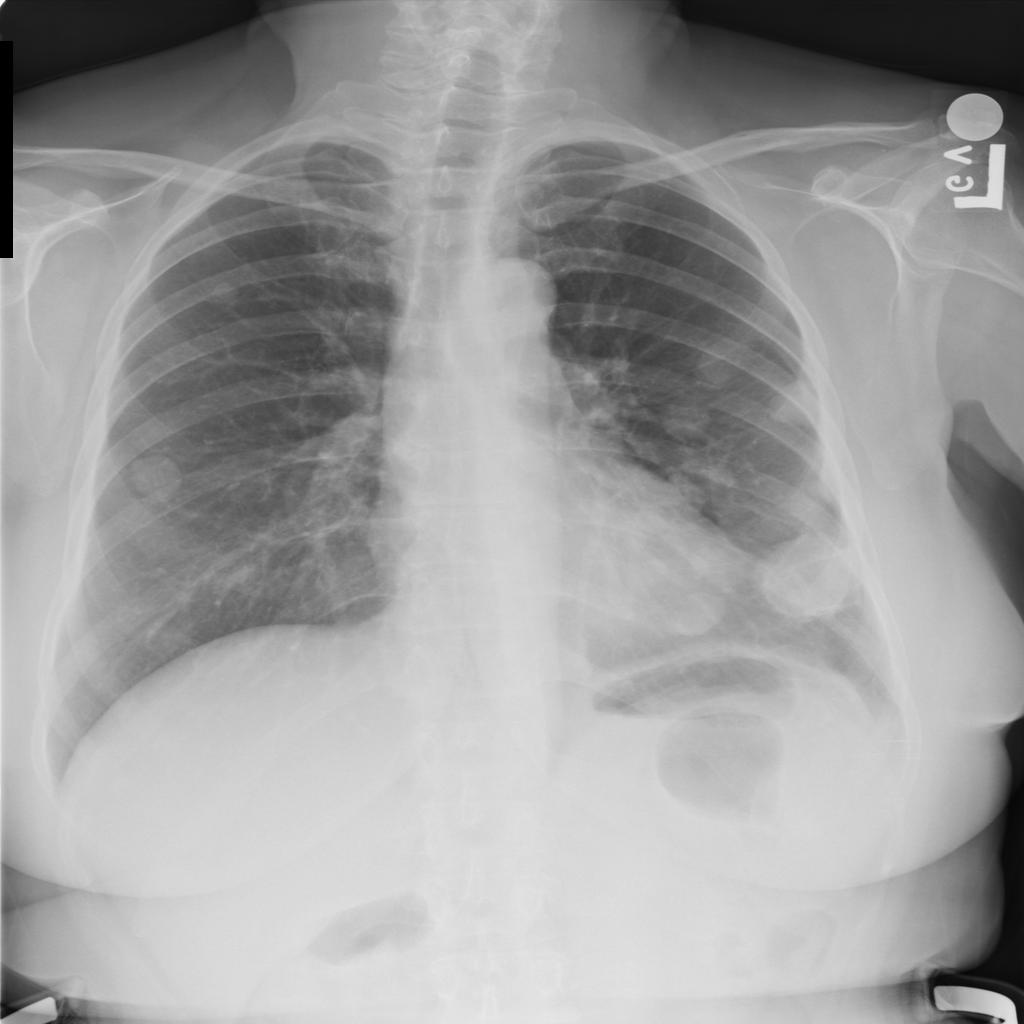nodule: (748, 529, 867, 629), (115, 442, 195, 509), (652, 576, 733, 642), (684, 329, 761, 397), (641, 466, 722, 529), (757, 373, 832, 438), (673, 529, 753, 587), (655, 394, 717, 444), (194, 271, 252, 314)
